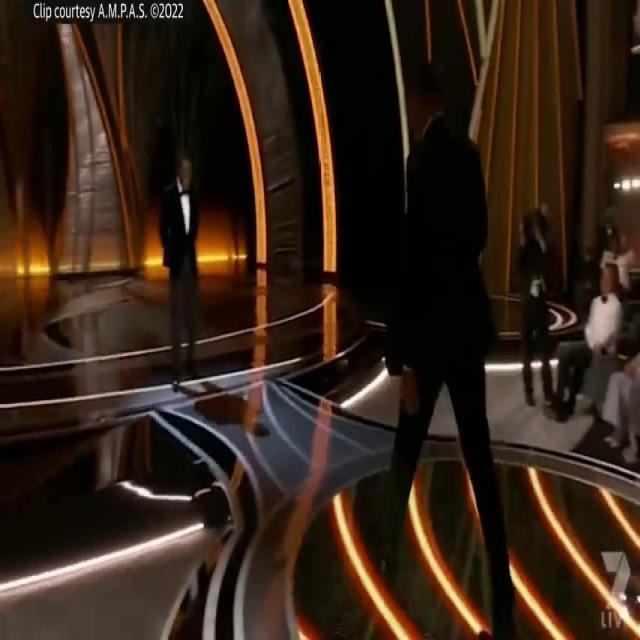non-fight: (368, 52, 534, 640), (150, 142, 233, 402)
